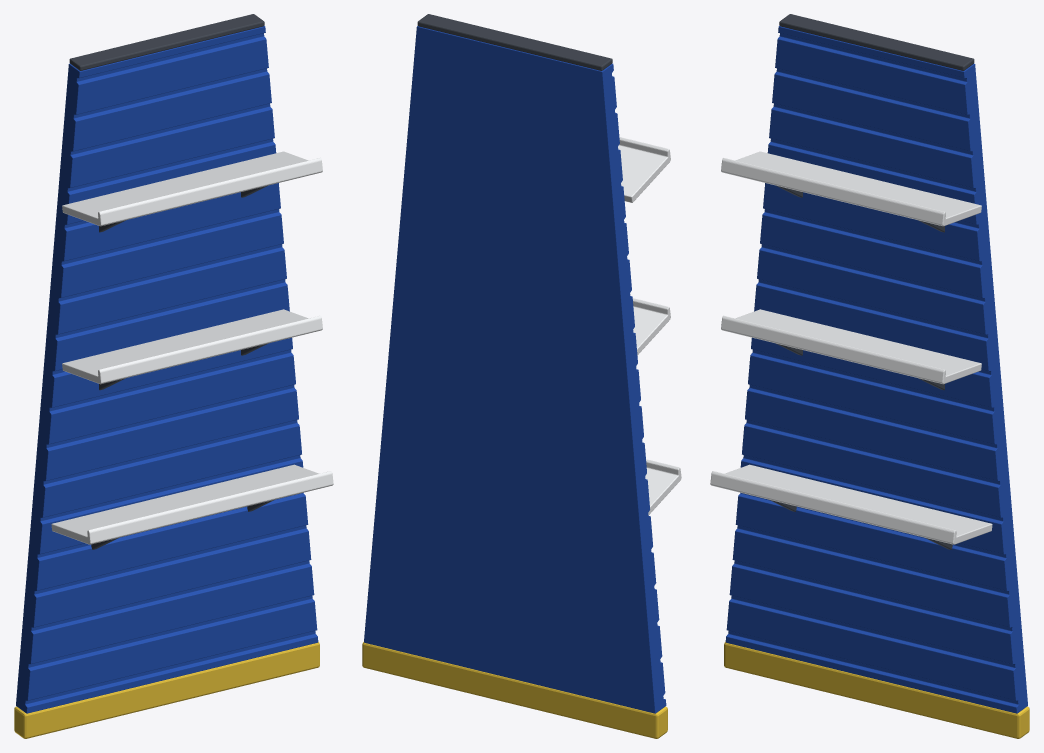
File: genre-endcap-tapered.glb
The picture shows the model from 3 angles, left to right: view 1: azimuth 30°, elevation 25°; view 2: azimuth 150°, elevation 25°; view 3: azimuth 330°, elevation 25°; orthographic projection.
Parts seen in each view (by area): view 1: genre-endcap-tapered; view 2: genre-endcap-tapered; view 3: genre-endcap-tapered.
Part boxes in pixels (left/top/right/bottom): genre-endcap-tapered: left=14, top=14, right=333, bottom=738; genre-endcap-tapered: left=362, top=14, right=681, bottom=738; genre-endcap-tapered: left=710, top=14, right=1029, bottom=738.
Size of the model in its own units: 2.16 by 4.6 by 0.639.
